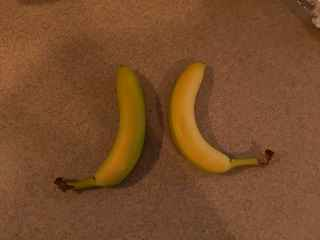banana: (161, 58, 277, 178), (53, 63, 150, 193)
